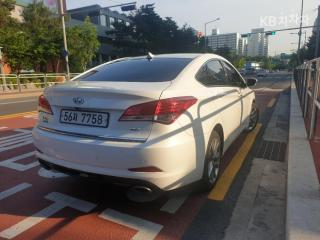5: (91, 113, 97, 124), (63, 111, 68, 121)
6: (68, 111, 73, 122)
7: (80, 112, 86, 124), (86, 113, 91, 124)
8: (97, 114, 104, 125)
plate: (56, 107, 113, 130)
저: (73, 112, 79, 122)
